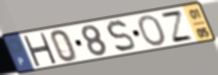0: (50, 29, 79, 63)
8: (81, 24, 109, 57)
H: (21, 32, 59, 67)
O: (136, 14, 169, 47)
S: (105, 19, 138, 54)
Z: (158, 9, 196, 44)
